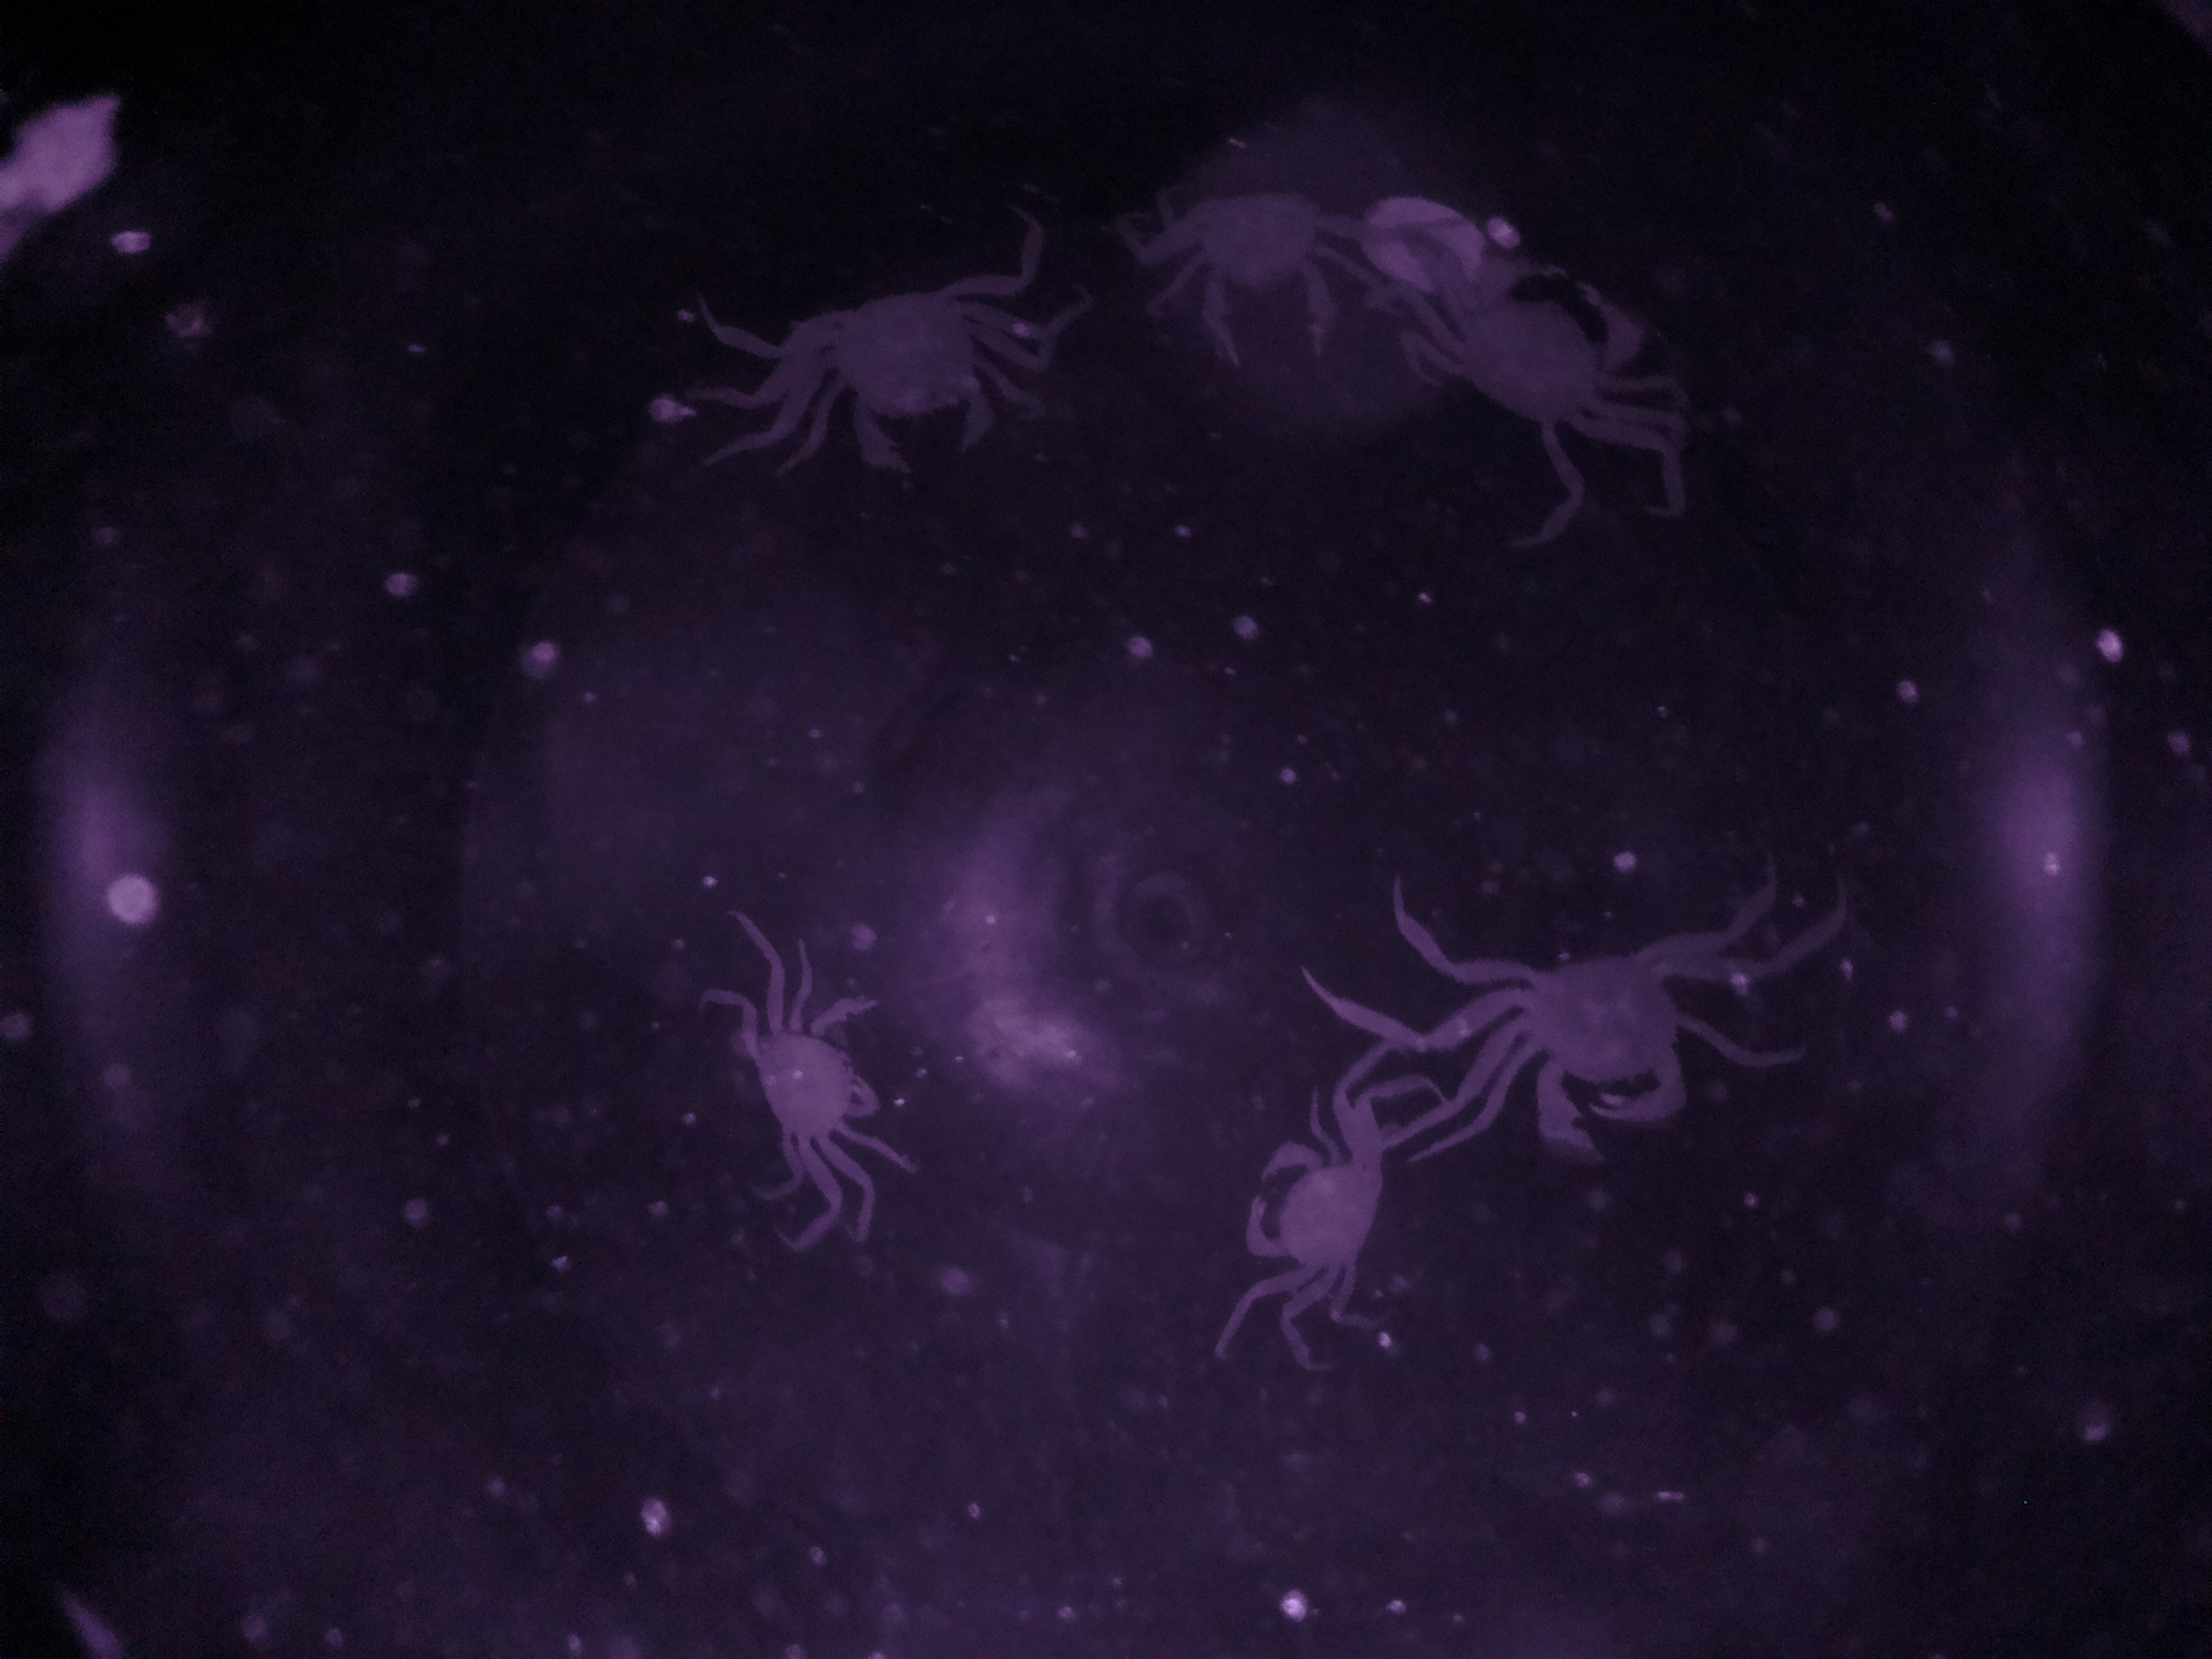Crab: (1446, 906, 1787, 1169), (754, 240, 1059, 490), (1402, 221, 1689, 467), (1223, 1070, 1439, 1342), (716, 962, 921, 1206)
